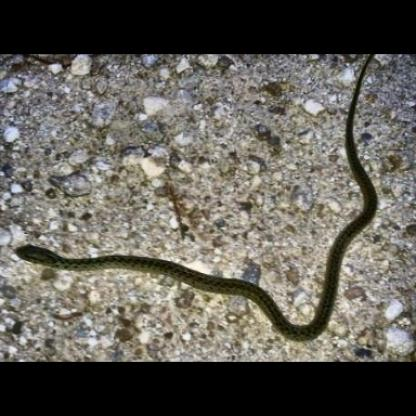Snake: (10, 61, 390, 347)
